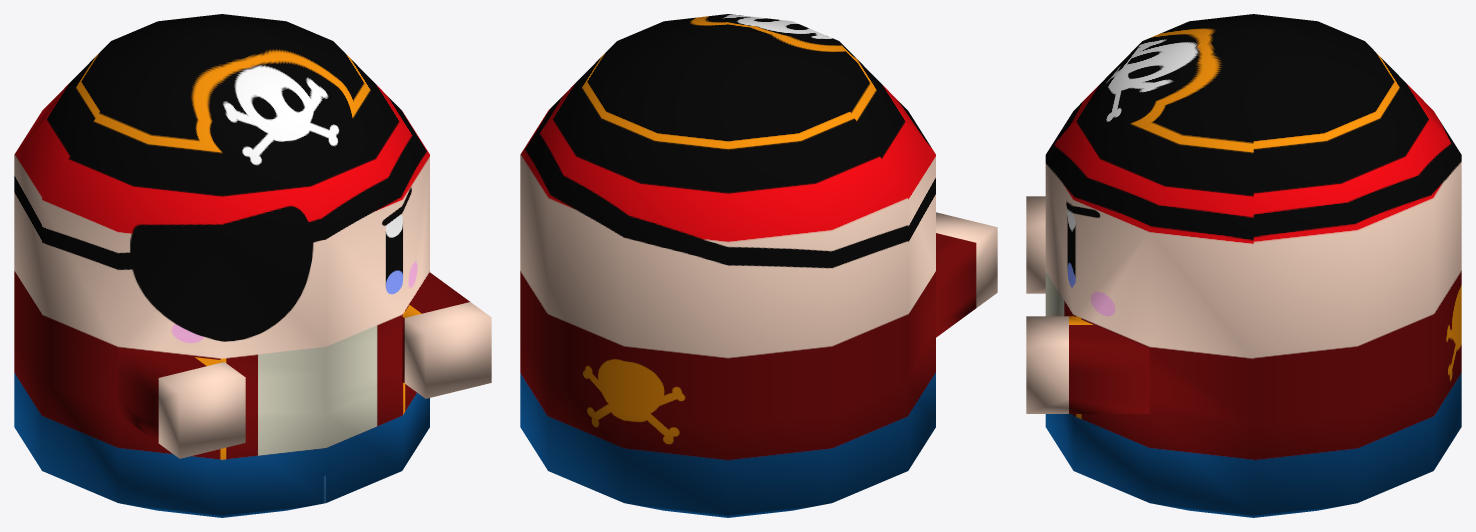
Rendered from Pirate Captain.fbx.
The picture shows the model from 3 angles, left to right: view 1: azimuth 30°, elevation 25°; view 2: azimuth 150°, elevation 25°; view 3: azimuth 270°, elevation 25°; orthographic projection.
Visible parts, largest first — view 1: Sphere; view 2: Sphere; view 3: Sphere.
Boxes of the visible parts, x1,y1,x2,y2 form: Sphere: (14,14,491,517); Sphere: (520,14,997,517); Sphere: (1026,14,1461,517).
Bounding box in the file's own units: 190 × 225 × 199.
1 material, 1 textured.
